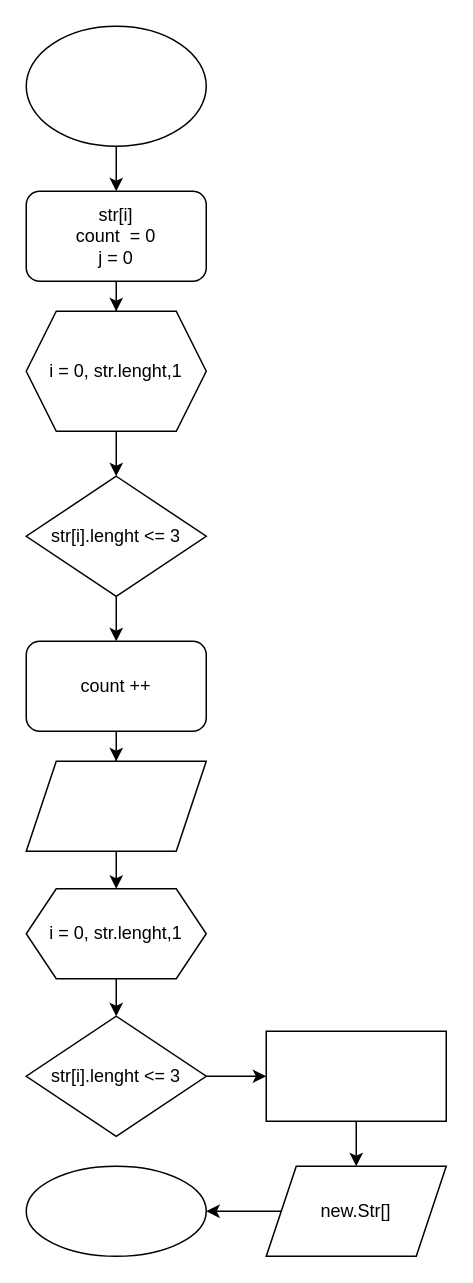
Image size: 473x1283. Some labels were removed from this diagram. Each missing label, with the box of its shape:
END: (25, 1165, 206, 1256)
new.Str[count]: (25, 760, 206, 851)
new.Str[j]= str[i], j++: (265, 1030, 446, 1121)
Next: (25, 25, 206, 146)
